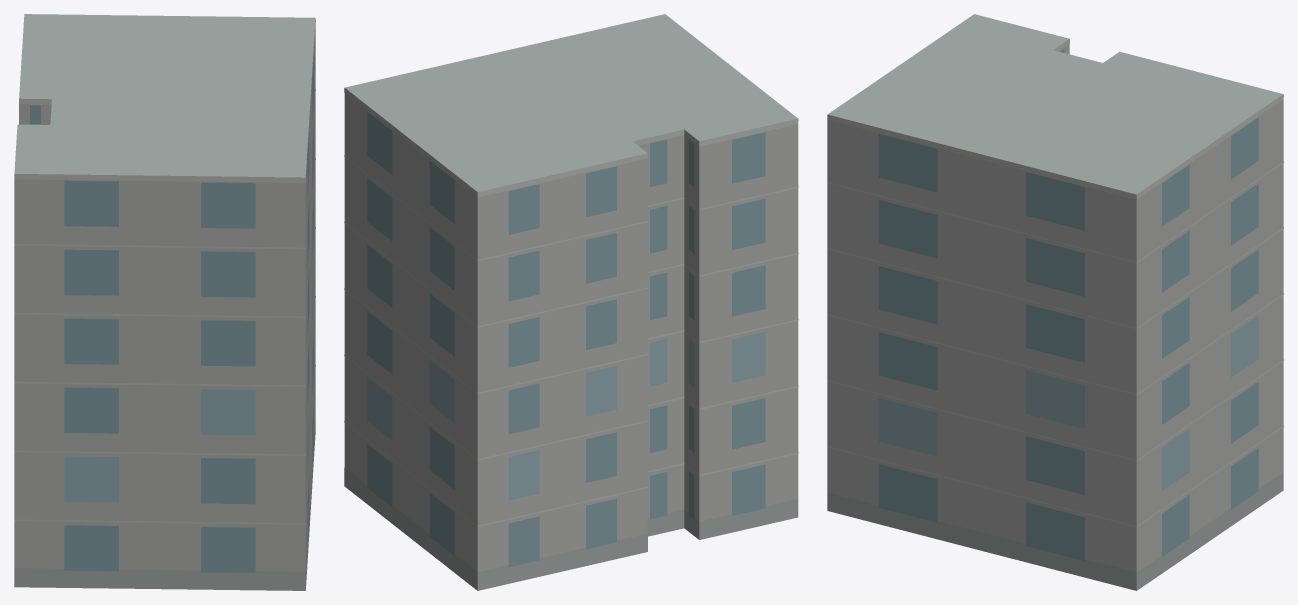
The model's file is survey-upis-32785567.glb.
The picture shows the model from 3 angles, left to right: view 1: azimuth 30°, elevation 25°; view 2: azimuth 150°, elevation 25°; view 3: azimuth 270°, elevation 25°; orthographic projection. The views are drawn at different scales.
Parts seen in each view (by area): view 1: survey-upis-32785567.tmp; view 2: survey-upis-32785567.tmp; view 3: survey-upis-32785567.tmp.
Part boxes in pixels (bbox=[...]): survey-upis-32785567.tmp: bbox=[14, 14, 315, 590]; survey-upis-32785567.tmp: bbox=[344, 14, 798, 590]; survey-upis-32785567.tmp: bbox=[827, 14, 1283, 590].
Bounding box in the file's own units: 17.61 × 18 × 18.8.
